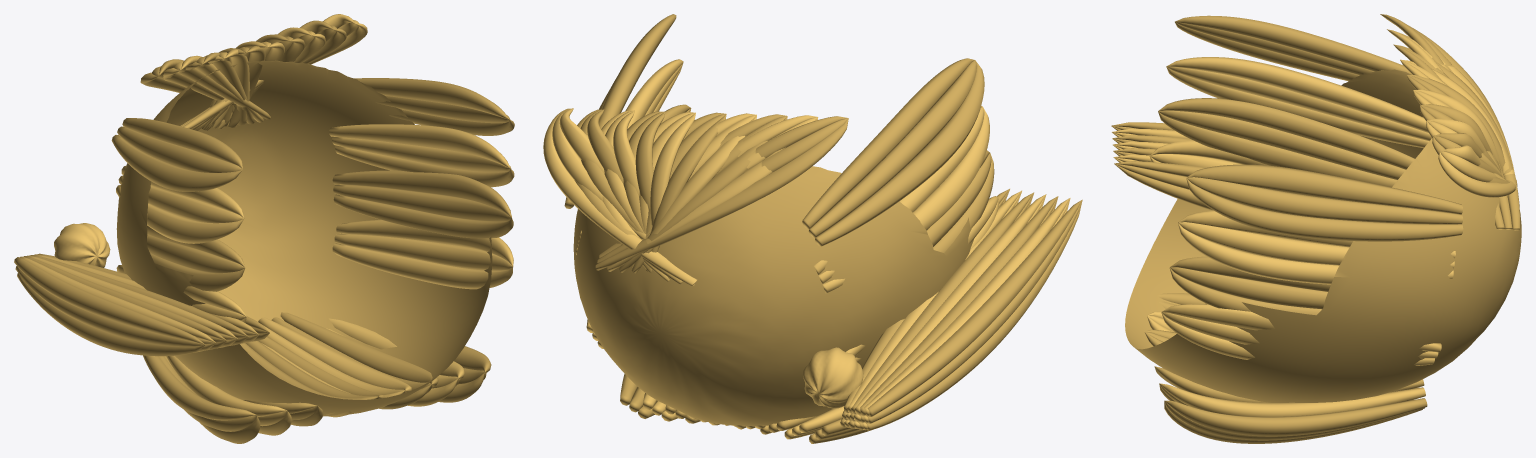
3 views of the same model, side by side, from view 1: azimuth 30°, elevation 25°; view 2: azimuth 150°, elevation 25°; view 3: azimuth 270°, elevation 25° (orthographic). The views are drawn at different scales.
Parts seen in each view (by area): view 1: CrownHair_ref10, SideHair_1_2_Strand2, SideHair_1_3_Strand0, SideHair_1_1_Strand2, SideHair_1_3_Strand1, SideHair_1_2_Strand0, SideHair_Pony_00_Strand0, SideHair_1_2_Strand1, BackHair_06_Strand2, SideHair_1_0_Strand2, SideHair_-1_0_Strand2, SideHair_1_1_Strand1 (+43 smaller); view 2: CrownHair_ref10, SideHair_-1_0_Strand2, SideHair_Pony_00_Strand0, SideHair_-1_0_Strand0, SideHair_-1_0_Strand1, FrontHair_Sweep_00_Strand2, FrontHair_Sweep_09_Strand0, Hair_Tie, SideHair_Pony_00_Strand2, SideHair_-1_1_Strand2, SideHair_Pony_01_Strand0, SideHair_Pony_02_Strand0 (+34 smaller); view 3: CrownHair_ref10, SideHair_1_0_Strand2, SideHair_1_0_Strand0, SideHair_1_0_Strand1, SideHair_-1_1_Strand0, SideHair_-1_2_Strand0, BackHair_08_Strand2, SideHair_-1_2_Strand1, SideHair_-1_0_Strand0, SideHair_-1_2_Strand2, BackHair_07_Strand2, SideHair_-1_1_Strand1 (+36 smaller).
Boxes of the visible parts, x1,y1,x2,y2 form: CrownHair_ref10: (116, 60, 492, 416); SideHair_1_2_Strand2: (332, 170, 511, 217); SideHair_1_3_Strand0: (332, 243, 512, 289); SideHair_1_1_Strand2: (329, 124, 510, 168); SideHair_1_3_Strand1: (334, 233, 512, 270); SideHair_1_2_Strand0: (333, 194, 513, 238); SideHair_Pony_00_Strand0: (14, 257, 205, 344); SideHair_1_2_Strand1: (333, 184, 511, 221); BackHair_06_Strand2: (280, 312, 438, 387); SideHair_1_0_Strand2: (354, 78, 508, 119); SideHair_-1_0_Strand2: (111, 135, 242, 191); SideHair_1_1_Strand1: (332, 136, 511, 172); CrownHair_ref10: (573, 166, 973, 425); SideHair_-1_0_Strand2: (815, 60, 984, 246); SideHair_Pony_00_Strand0: (867, 199, 1082, 416); SideHair_-1_0_Strand0: (802, 58, 974, 229); SideHair_-1_0_Strand1: (808, 60, 976, 237); FrontHair_Sweep_00_Strand2: (595, 118, 848, 270); FrontHair_Sweep_09_Strand0: (543, 108, 696, 286); Hair_Tie: (803, 347, 863, 408); SideHair_Pony_00_Strand2: (866, 200, 1082, 430); SideHair_-1_1_Strand2: (822, 107, 989, 293); SideHair_Pony_01_Strand0: (864, 198, 1070, 416); SideHair_Pony_02_Strand0: (860, 196, 1058, 415); CrownHair_ref10: (1125, 69, 1521, 402); SideHair_1_0_Strand2: (1187, 164, 1462, 214); SideHair_1_0_Strand0: (1186, 178, 1463, 241); SideHair_1_0_Strand1: (1186, 177, 1462, 224); SideHair_-1_1_Strand0: (1166, 57, 1428, 132); SideHair_-1_2_Strand0: (1158, 98, 1414, 169); BackHair_08_Strand2: (1165, 398, 1427, 436); SideHair_-1_2_Strand1: (1158, 110, 1405, 179); SideHair_-1_0_Strand0: (1175, 15, 1412, 74); SideHair_-1_2_Strand2: (1158, 111, 1397, 187); BackHair_07_Strand2: (1159, 383, 1425, 416); SideHair_-1_1_Strand1: (1166, 66, 1431, 141).
Bounding box in the file's own units: 0.7325 × 0.6053 × 0.6755.
